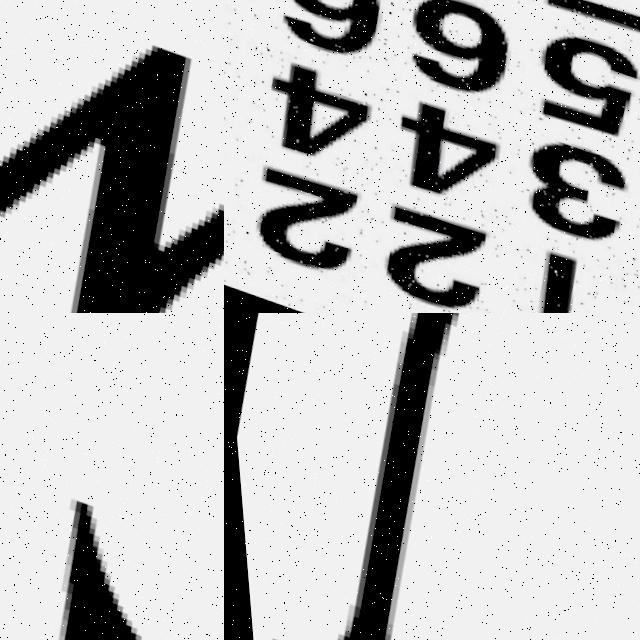1: (506, 234, 613, 313)
2: (226, 147, 365, 288), (352, 183, 500, 313)
3: (503, 118, 630, 244)
4: (241, 46, 385, 178), (369, 82, 507, 216)
5: (515, 6, 640, 144)
6: (380, 0, 522, 108), (257, 0, 396, 74)
7: (525, 0, 640, 36)
U: (226, 313, 640, 640)
W: (0, 0, 224, 313)
